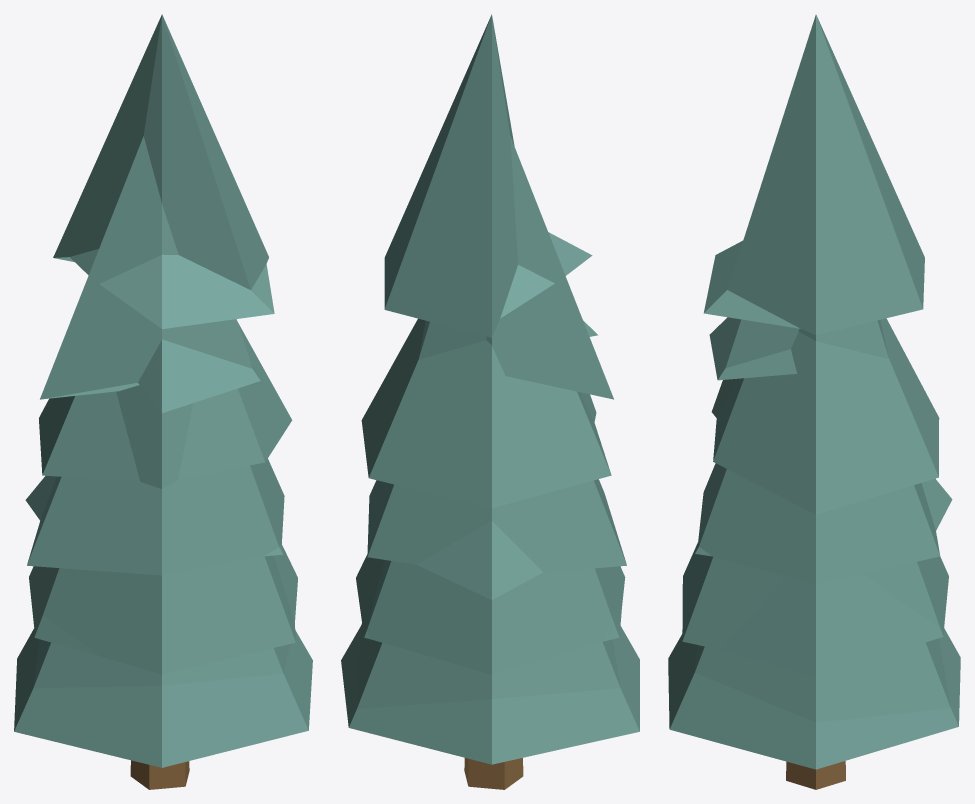
File: Pine_001.fbx
3 views of the same model, side by side, from view 1: azimuth 30°, elevation 25°; view 2: azimuth 150°, elevation 25°; view 3: azimuth 270°, elevation 25° (orthographic).
Visible parts, largest first — view 1: Pine.001; view 2: Pine.001; view 3: Pine.001.
Part boxes in pixels (x1,y1,x2,y2): Pine.001: (14, 14, 312, 789); Pine.001: (341, 14, 639, 789); Pine.001: (668, 14, 960, 789).
Size of the model in its own units: 4.67 by 11.39 by 3.96.
